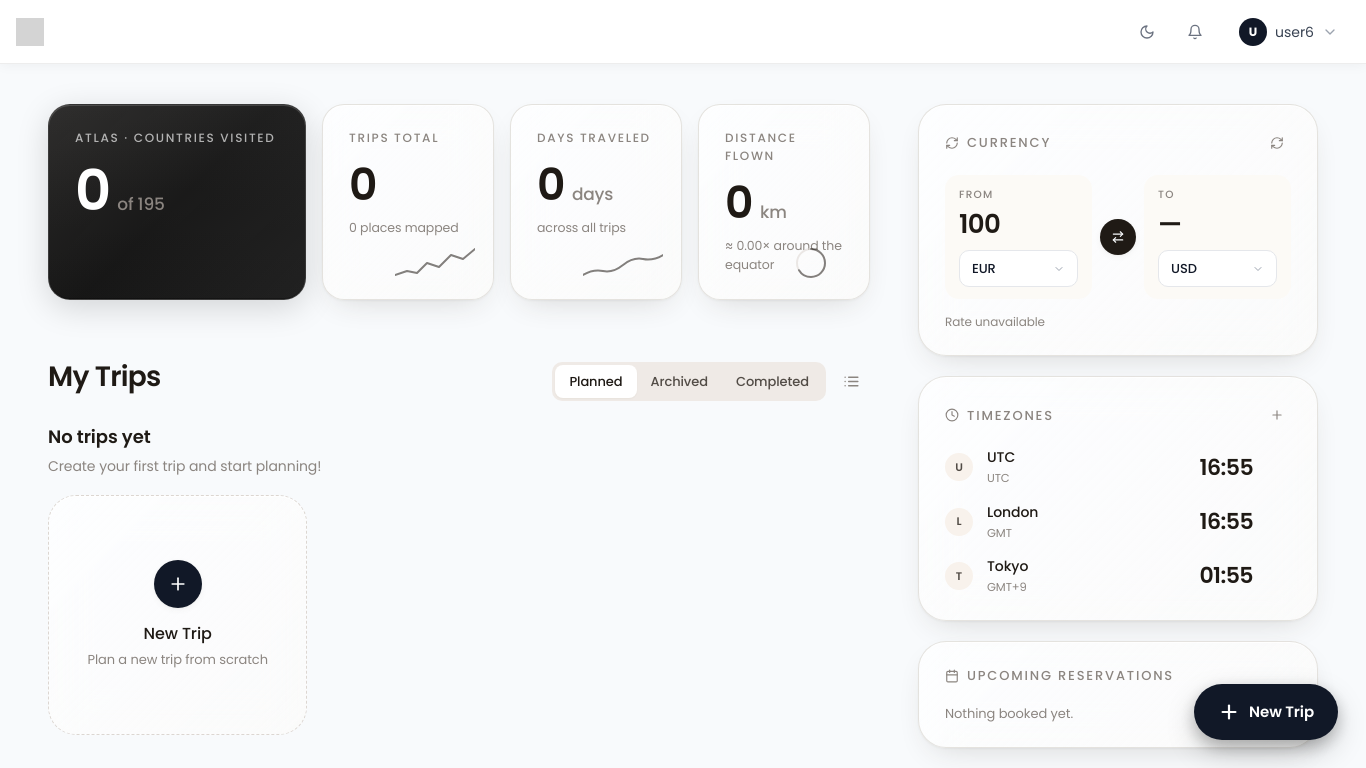
Test: DashboardPage › FE-PAGE-DASH-005: Create Trip button opens TripFormModal › clicking New Trip button opens the trip form modal
Expected: the button "New Trip Plan a new trip from scratch" is shown, [48,495,307,735]
Click the button "New Trip".
click(1266, 712)  # box [1194,684,1338,740]
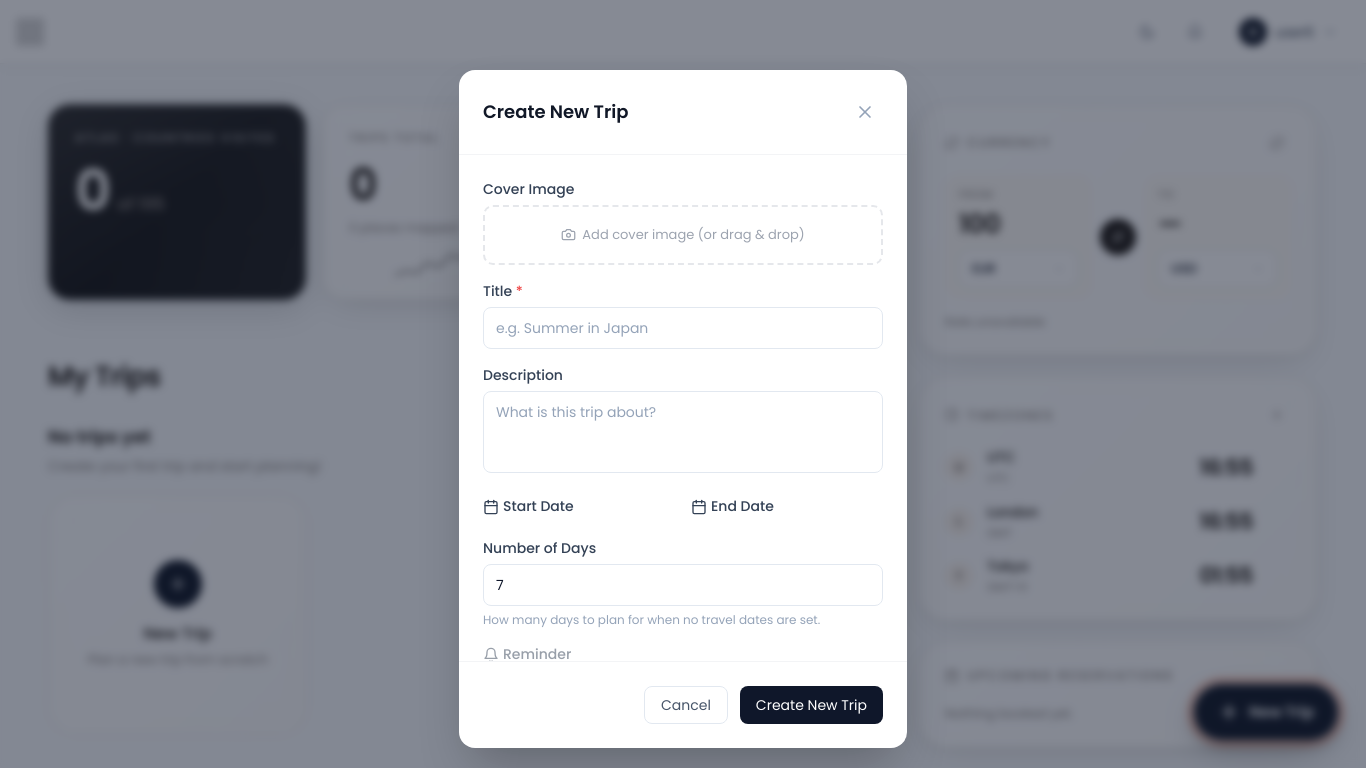
Result: the heading "Create New Trip" is shown at [483,98,628,126]
